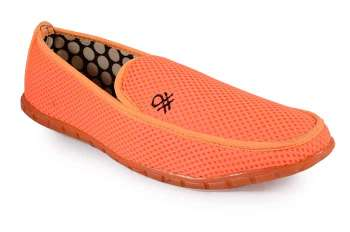Footwear: (18, 17, 339, 193)
